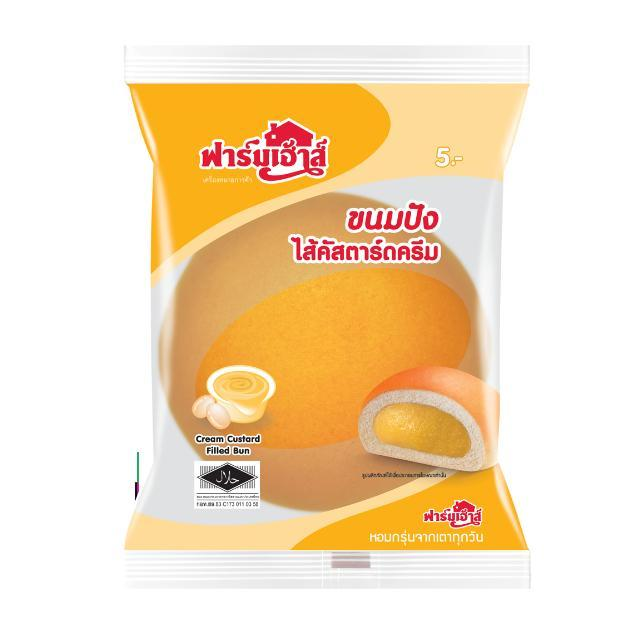Bolsa-de-plastico: (125, 49, 529, 587)
